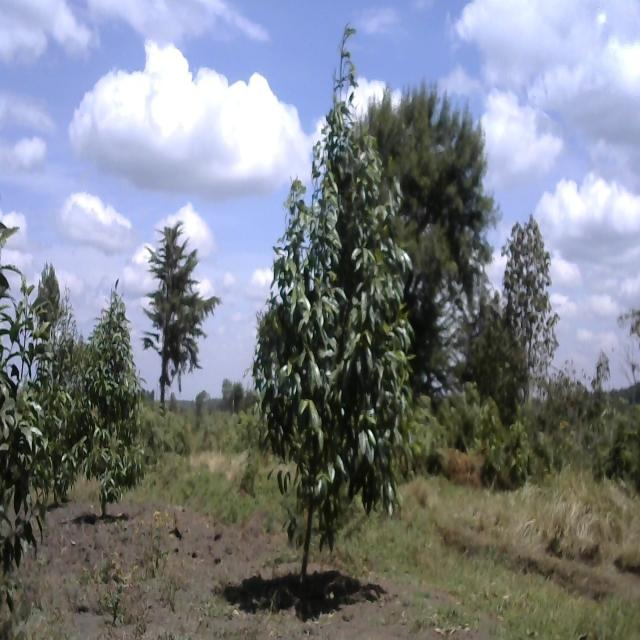Hass Avocado: (256, 27, 418, 596), (0, 263, 55, 582), (70, 280, 143, 501)
cedrus: (142, 204, 225, 399)
other: (355, 69, 494, 351), (503, 204, 559, 400)
